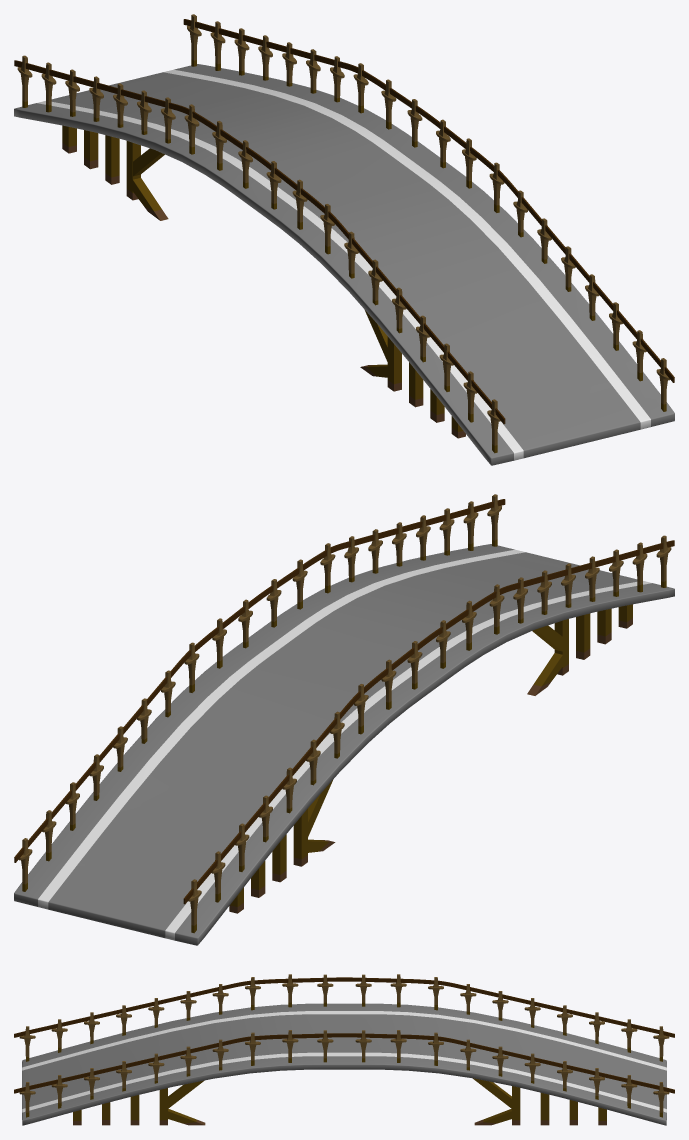
The model's file is Bridge.fbx.
3 views of the same model, one above another, from view 1: azimuth 30°, elevation 25°; view 2: azimuth 150°, elevation 25°; view 3: azimuth 270°, elevation 25° (orthographic). The views are drawn at different scales.
Parts seen in each view (by area): view 1: Bridge; view 2: Bridge; view 3: Bridge.
Part boxes in pixels (left/top/right/bottom): Bridge: left=14, top=14, right=674, bottom=465; Bridge: left=14, top=494, right=674, bottom=945; Bridge: left=14, top=974, right=674, bottom=1125.
Size of the model in its own units: 675 by 487 by 3095.
